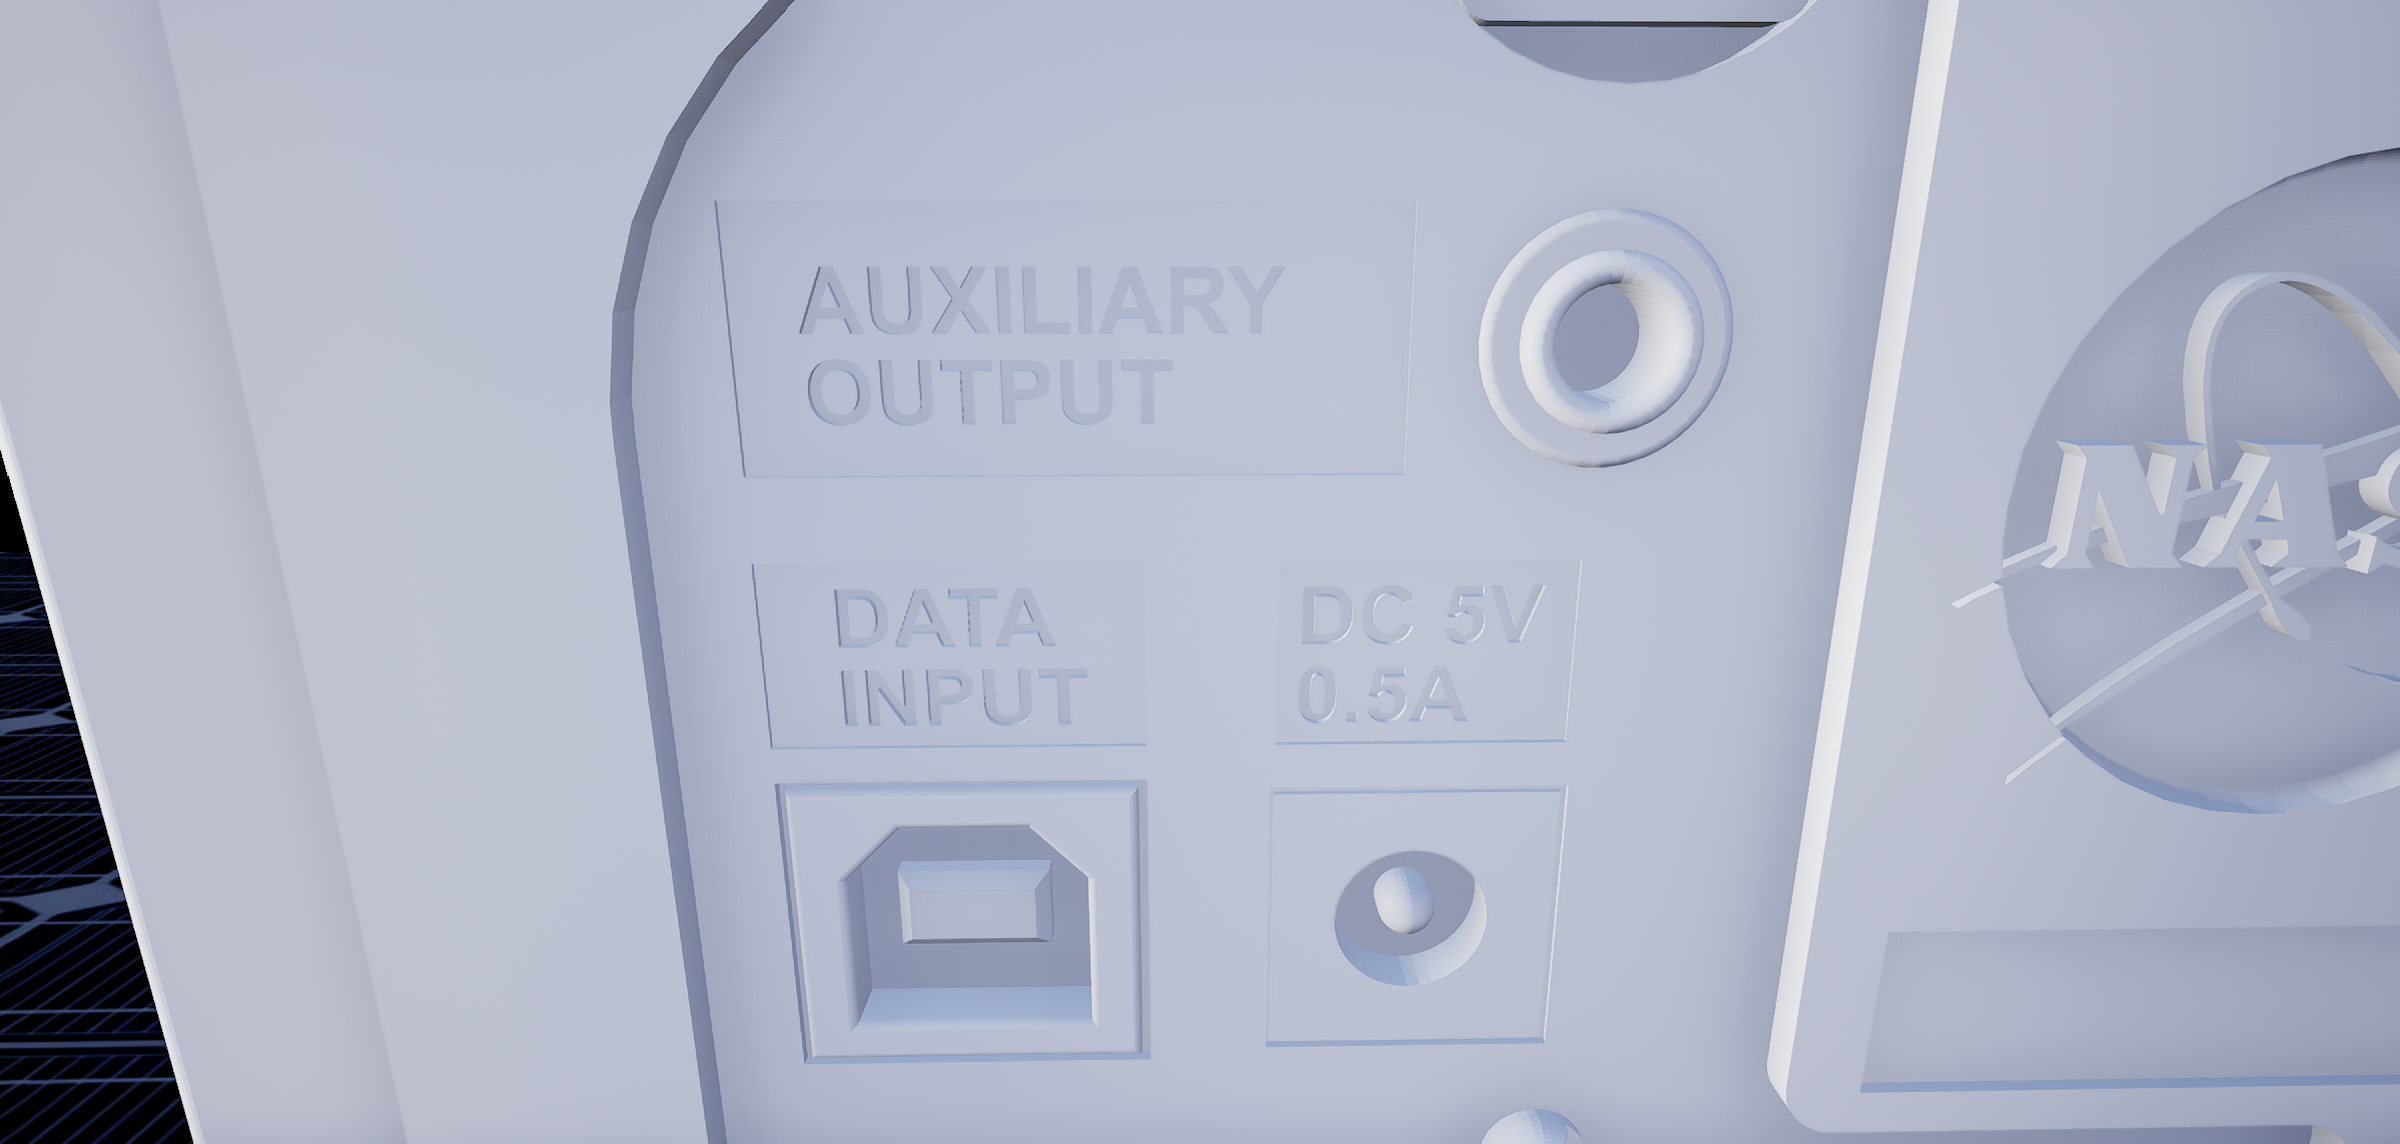aux: (1468, 198, 1739, 479)
dc: (1303, 838, 1494, 1005)
usb: (827, 815, 1111, 1041)
